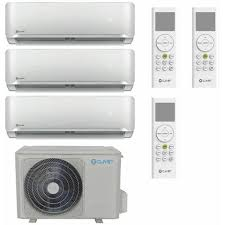ac: (2, 93, 139, 141), (4, 48, 139, 94), (4, 1, 138, 47)
